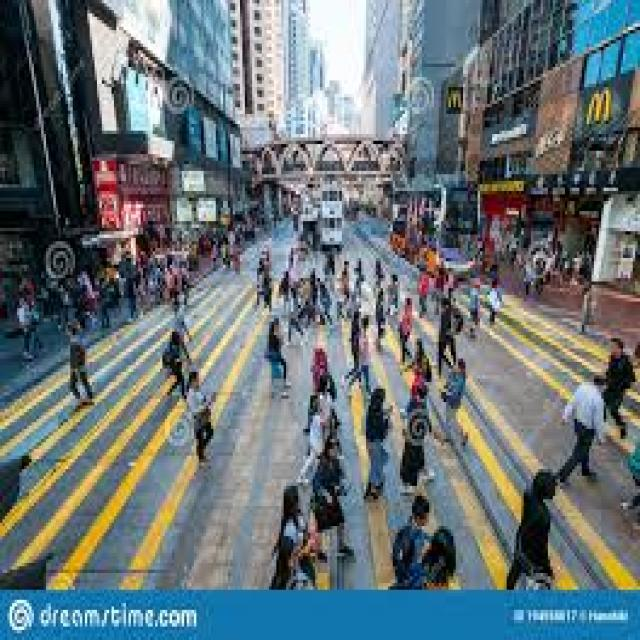Pedestrians: (553, 375, 613, 486), (507, 469, 562, 590), (184, 372, 216, 469), (444, 358, 475, 452), (63, 322, 95, 406), (264, 315, 291, 395)
